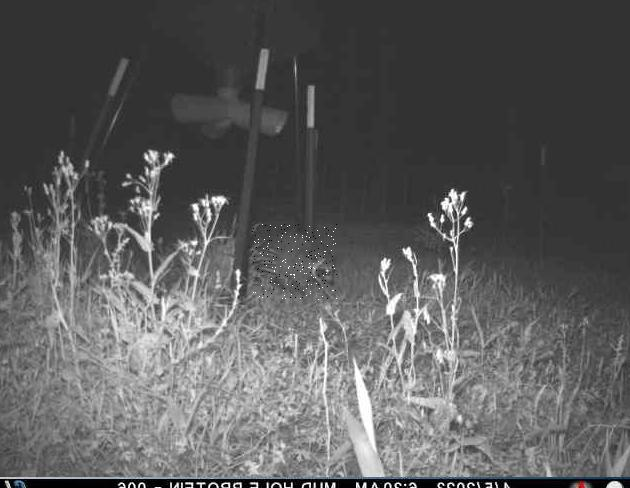Raccoon: (252, 225, 337, 301)
